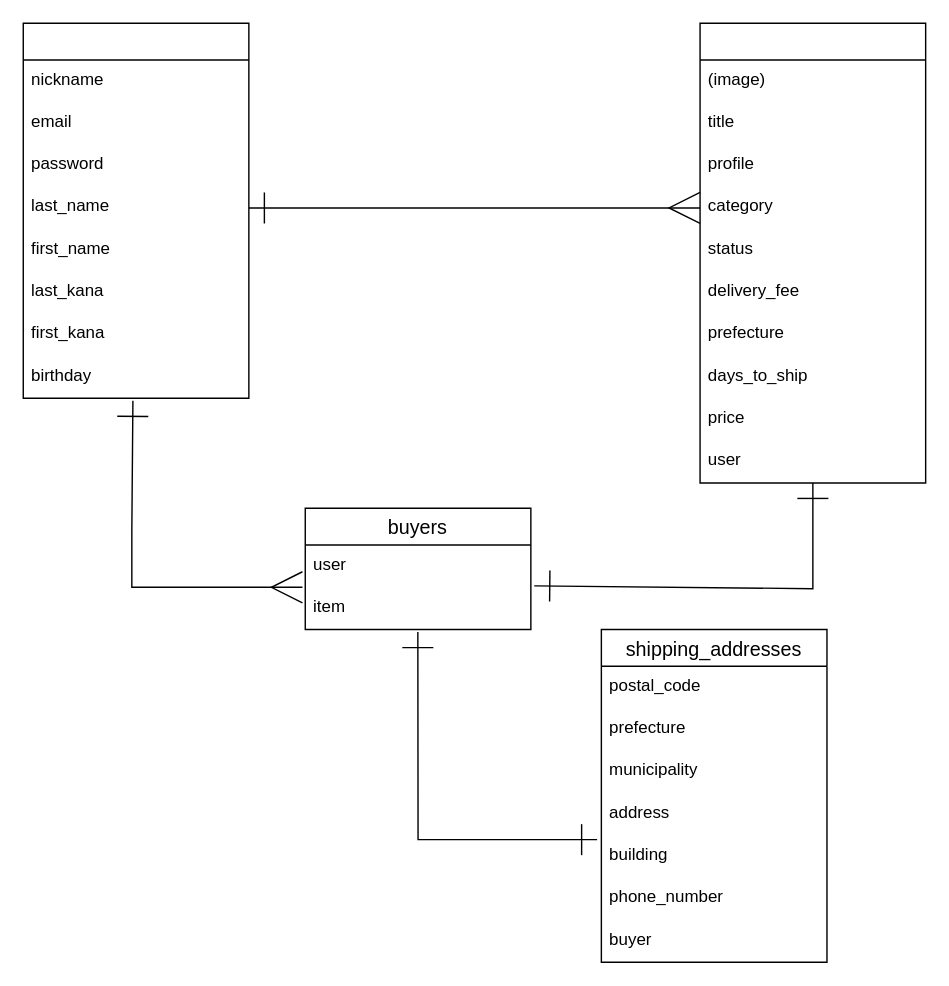
This 949x986 diagram has some shape labels left out. The shapes that lost their labels are listed below. From the top down, each one's box as (x1, y1, x2, y2) in pixels, then its label:
(22, 22, 249, 398): users
(699, 22, 926, 483): items
